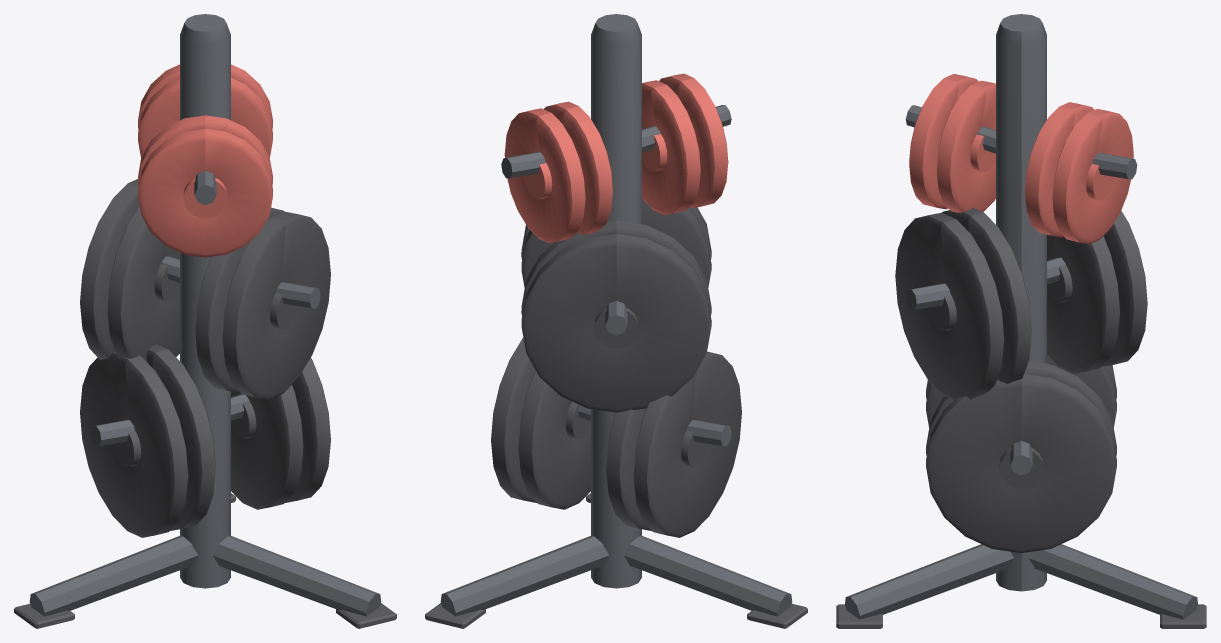
File: weight_plate_tree.glb
3 views of the same model, side by side, from view 1: azimuth 30°, elevation 25°; view 2: azimuth 150°, elevation 25°; view 3: azimuth 270°, elevation 25° (orthographic).
Parts seen in each view (by area): view 1: weight-plate-tree; view 2: weight-plate-tree; view 3: weight-plate-tree.
Boxes of the visible parts, x1,y1,x2,y2 form: weight-plate-tree: (14,14,396,628); weight-plate-tree: (425,14,807,628); weight-plate-tree: (836,14,1206,628).
Size of the model in its own units: 0.7967 by 1.46 by 0.8721.
